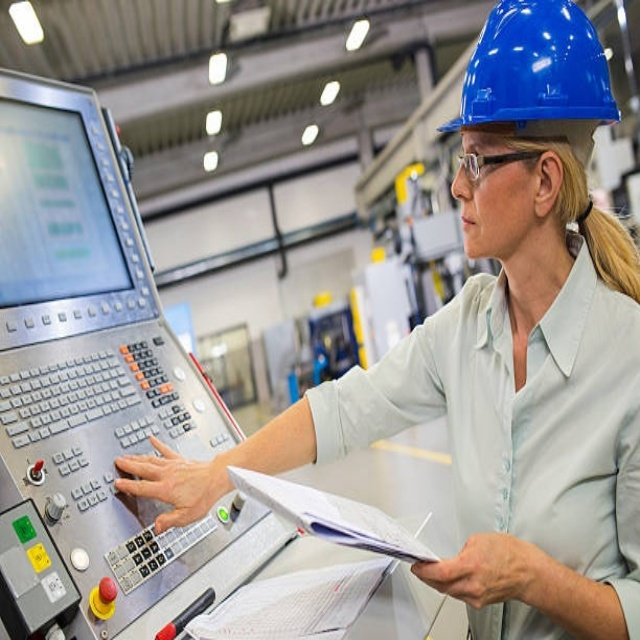Gafas: (454, 150, 538, 185)
Sin_guantes: (113, 433, 228, 533), (411, 530, 534, 613)
Sin_mascara: (460, 196, 497, 264)
